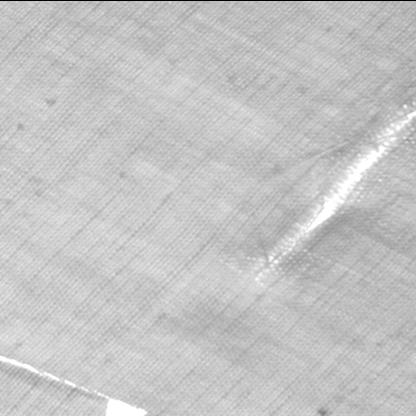hole: (239, 102, 415, 284), (0, 354, 111, 402), (100, 397, 153, 415)
